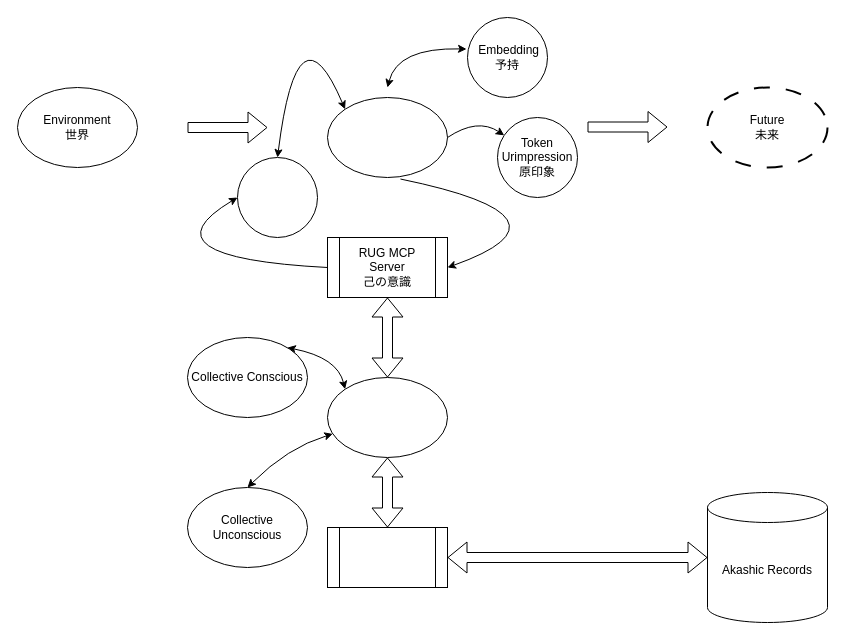
Image size: 846x640. Some labels were removed from this diagram. The shapes that lost their labels are listed below. From the top down, each one's centre as x and y in pixels, then its label:
[387,137]: Reality (Lebendige Gegenwart) 生きた現在
[277,197]: Embedding Retention 把持
[387,417]: Past 過去 Big Story of the Context
[387,557]: RAG MCP Server エイブラハム
